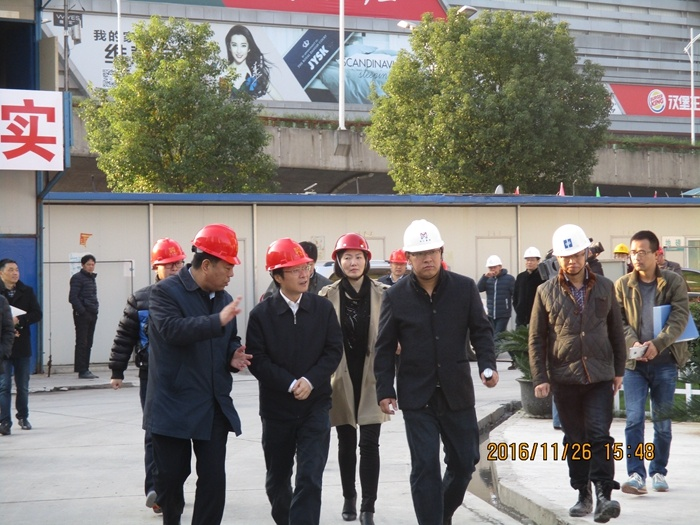none: (627, 227, 659, 273), (223, 24, 253, 65), (296, 239, 319, 271), (1, 256, 22, 286), (79, 251, 97, 272)
red: (190, 224, 240, 289), (265, 236, 312, 293), (332, 230, 370, 279), (148, 236, 187, 280), (386, 249, 407, 277)
white: (402, 219, 444, 279), (551, 225, 590, 277), (522, 247, 540, 271), (485, 254, 502, 274)
yellow: (612, 242, 630, 262)
